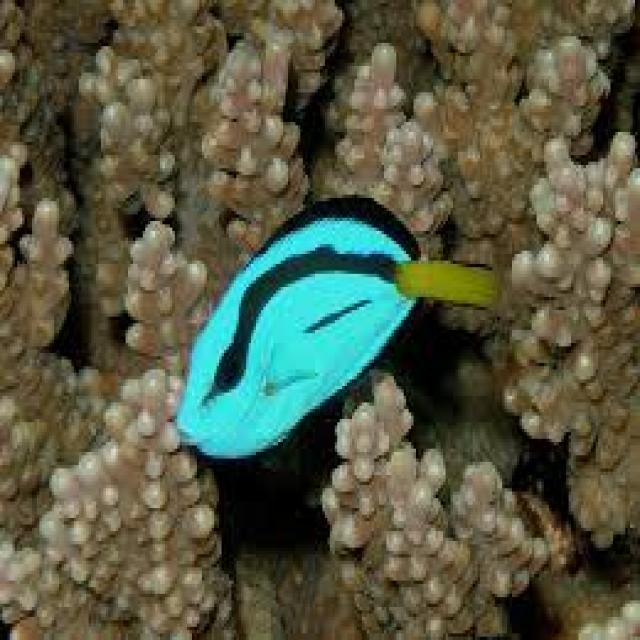TangFish: (159, 192, 498, 461)
